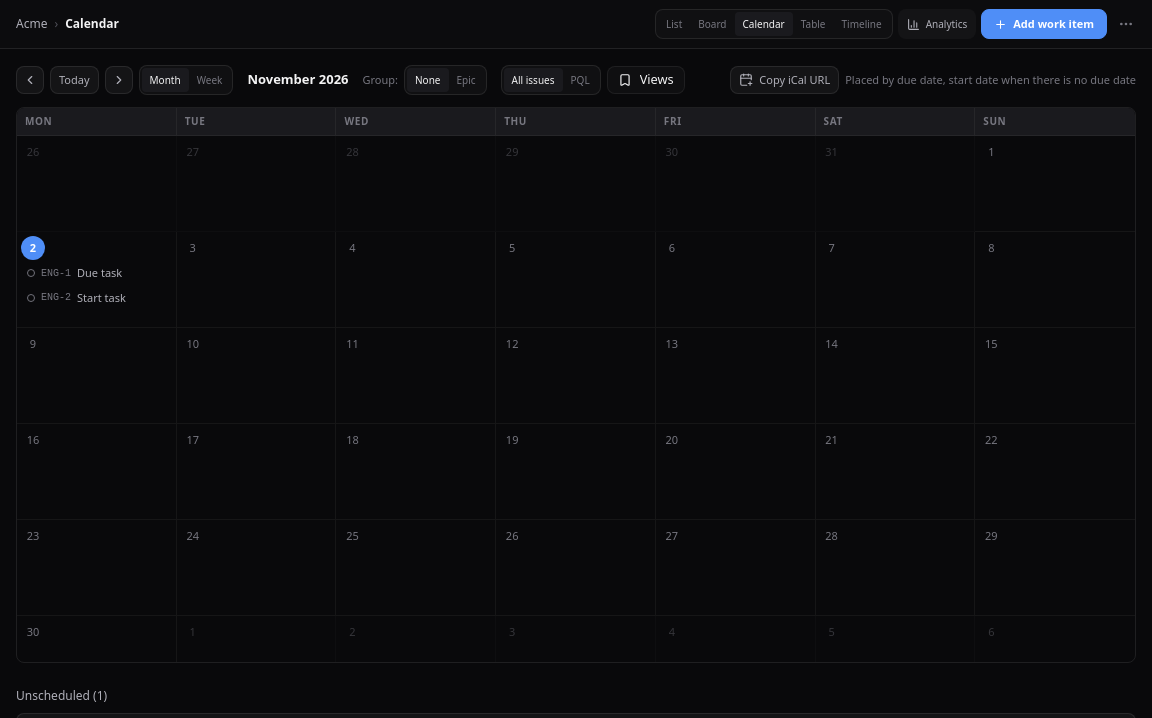
Test: calendar saved views (C110T1) › leaving PQL mode after a view apply restores the unfiltered window sets
Expected: the text "Due task" is shown, [77,265,122,282]
Expected: the text "Start task" is shown, [77,290,126,306]
What coordinates should you click on to do the following:
click the button with aria-label "Saved views"
I would click on:
 (646, 80)
Its box is [607,66,685,94].
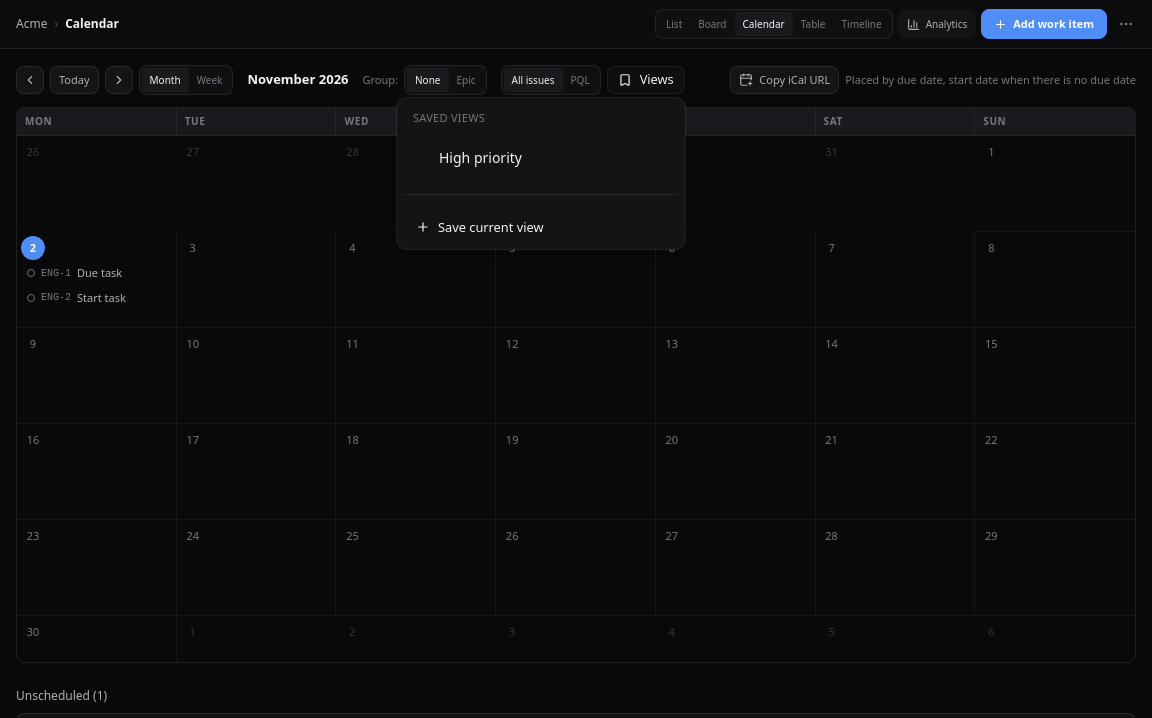
Now the button "Save current view" is shown, box [405,213,677,241]
What coordinates should you click on to do the following:
click the button titled "Apply view “High priority”"
I would click on:
 (481, 158)
Its box is [409,142,553,174].
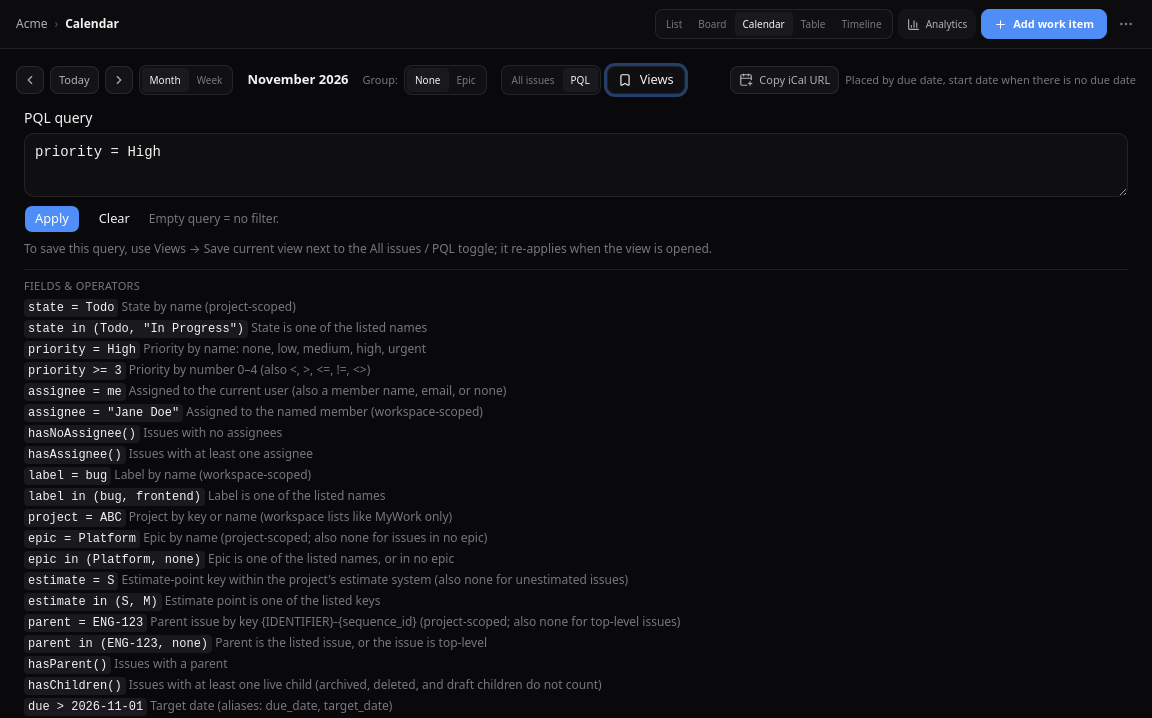
What coordinates should you click on to do the following:
click the button "All issues"
I would click on:
 (533, 80)
Its box is [504,68,562,92].
(page scrolled)
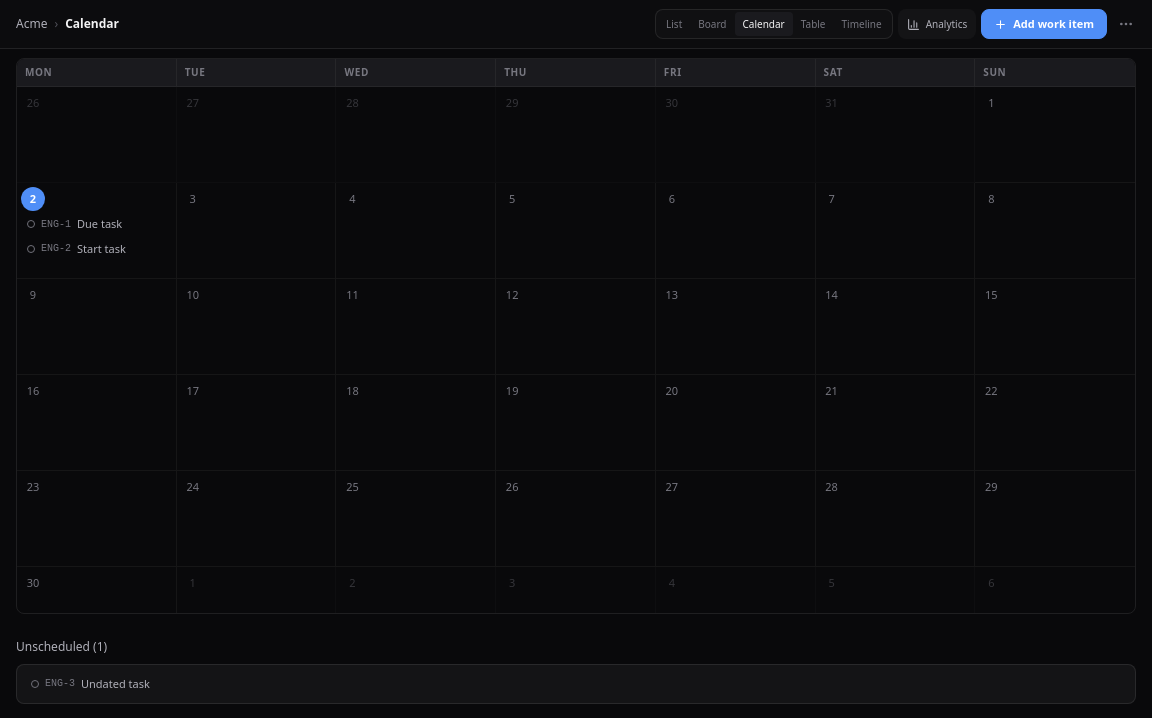
Now the text "Due task" is shown, box [77,216,122,232]
Now the text "Start task" is shown, box [77,240,126,257]
Now the text "Undated task" is shown, box [81,676,150,692]
